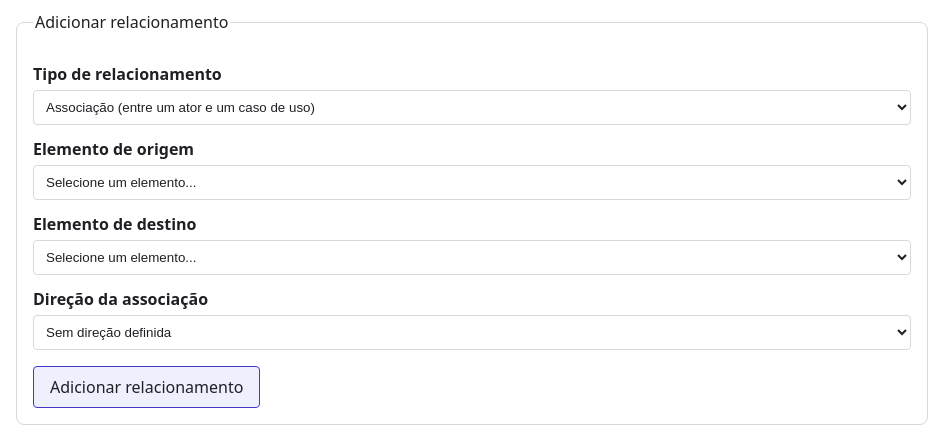
Scenario: RelationshipForm › só mostra o campo de condição quando o tipo é Extensão
The image size is (945, 442).
Expected: the field labelled "condição da extensão" is not shown
Select "Extensão <<extend>> (entre dois casos de uso)" in the dropdown labelled "Tipo de relacionamento" at (472, 108), box [33,90,911,125]
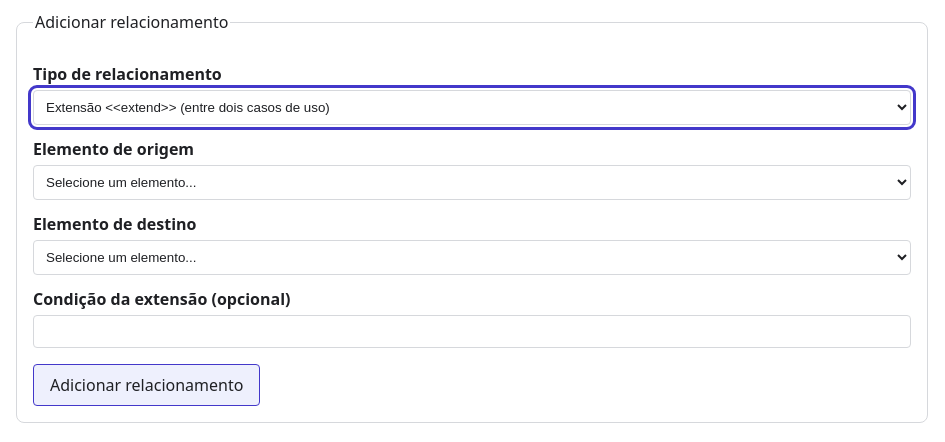
Result: the field labelled "Condição da extensão (opcional)" is shown at [33,315,911,348]
